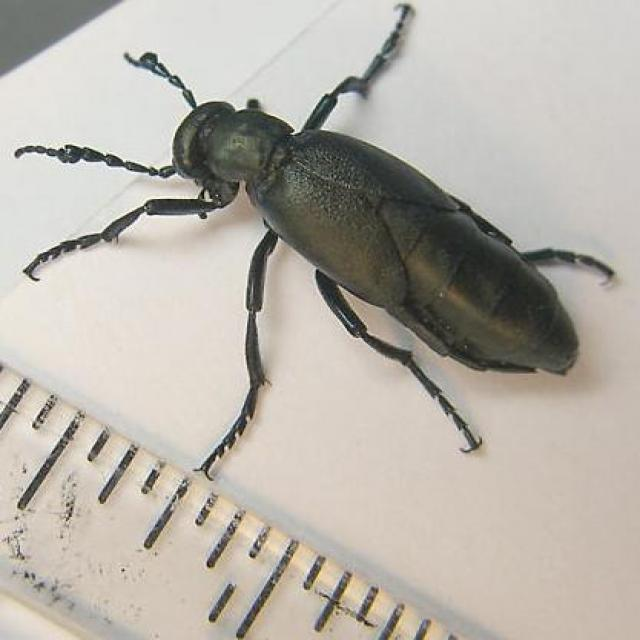BlisterBeetle-Adult-: (12, 4, 625, 494)
